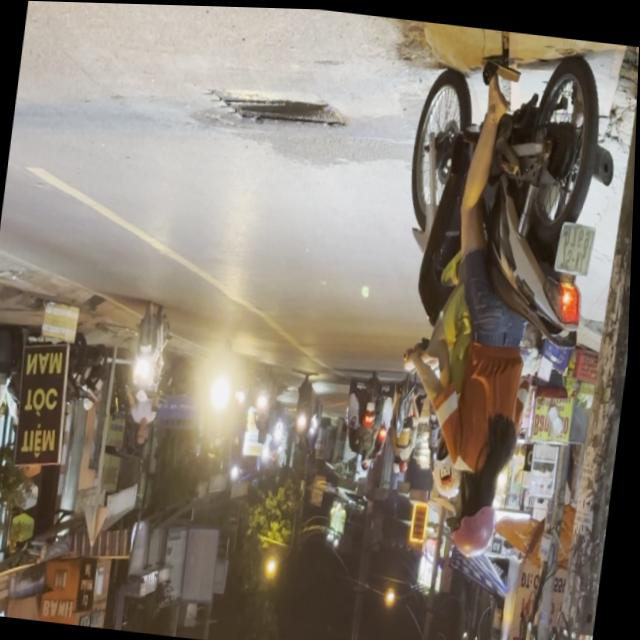helmet: (451, 464, 507, 557)
licenseplate: (361, 24, 631, 573), (120, 298, 177, 448)
motorcyclist: (136, 420, 150, 446)
nohelmet: (555, 220, 596, 271)
